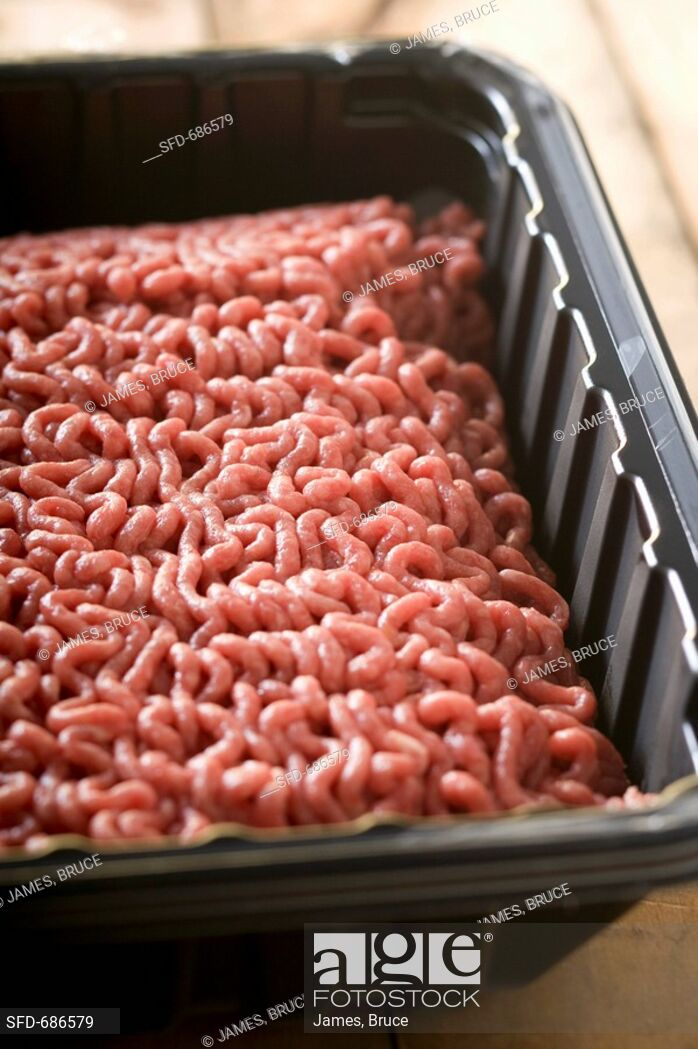ground_beef: (24, 221, 532, 800)
